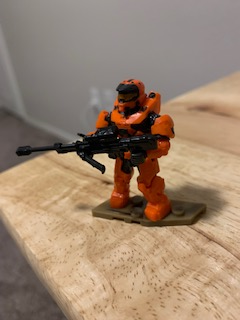spartan: (77, 78, 174, 222)
